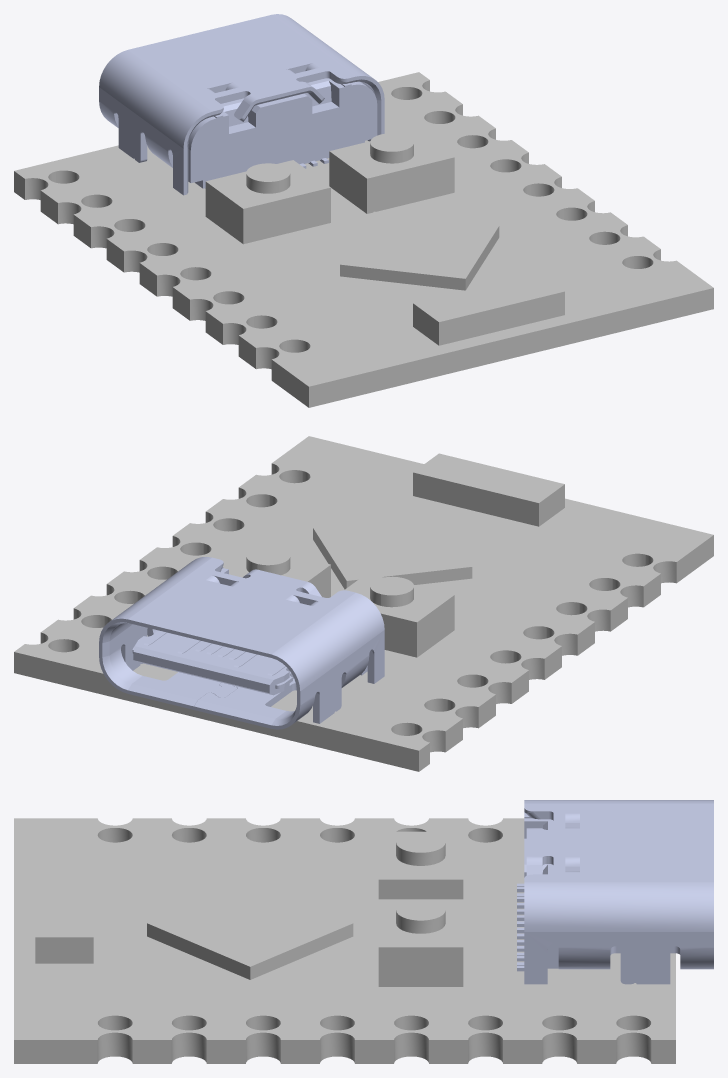
3 renders of one model, top to bottom at view 1: azimuth 30°, elevation 25°; view 2: azimuth 150°, elevation 25°; view 3: azimuth 270°, elevation 25°, orthographic. The views are drawn at different scales.
Parts seen in each view (by area): view 1: empty_15, empty_19, empty_20, empty_26, empty_22, empty_23, empty_9, empty_10, empty_8, empty_18, empty_14, empty_12 (+12 smaller); view 2: empty_15, empty_19, empty_20, empty_26, empty_22, empty_23, empty_10, empty_11, empty_13, empty_18, empty_12, empty_14 (+12 smaller); view 3: empty_15, empty_19, empty_20, empty_23, empty_26, empty_22, empty_6, empty_16, empty_7, empty_17, empty_2, empty_5 (+10 smaller).
Part boxes in pixels (x1,y1,x2,y2): empty_15: [14, 72, 713, 407]; empty_19: [99, 14, 384, 195]; empty_20: [340, 211, 499, 290]; empty_26: [413, 272, 564, 345]; empty_22: [205, 160, 330, 244]; empty_23: [329, 130, 454, 213]; empty_9: [219, 312, 284, 358]; empty_10: [54, 191, 119, 237]; empty_8: [21, 167, 86, 213]; empty_18: [252, 336, 317, 382]; empty_14: [153, 264, 218, 310]; empty_12: [186, 288, 251, 334]; empty_15: [14, 436, 713, 771]; empty_19: [99, 556, 384, 729]; empty_20: [313, 514, 472, 589]; empty_26: [413, 453, 564, 526]; empty_22: [344, 573, 454, 657]; empty_23: [221, 543, 330, 597]; empty_10: [417, 695, 482, 741]; empty_11: [450, 671, 515, 717]; empty_13: [483, 647, 548, 693]; empty_18: [615, 550, 680, 596]; empty_12: [549, 599, 614, 644]; empty_14: [516, 623, 581, 669]; empty_15: [14, 818, 675, 1063]; empty_19: [517, 800, 713, 984]; empty_20: [147, 879, 353, 979]; empty_23: [378, 899, 463, 986]; empty_26: [35, 868, 93, 963]; empty_22: [378, 831, 463, 899]; empty_6: [534, 1012, 585, 1063]; empty_16: [163, 1012, 214, 1063]; empty_7: [608, 1012, 659, 1063]; empty_17: [89, 1012, 140, 1063]; empty_2: [238, 1012, 288, 1063]; empty_5: [460, 1012, 510, 1063].
Bounding box in the file's own units: 18 × 4.16 × 24.
